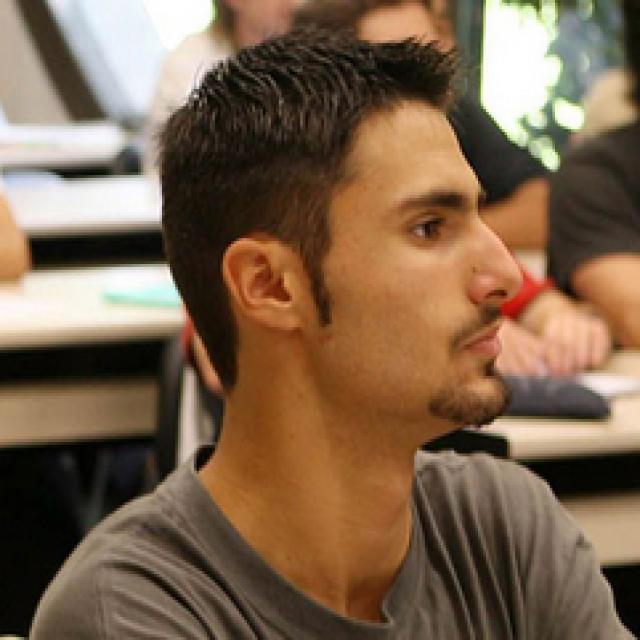Attentive: (295, 97, 531, 431)
